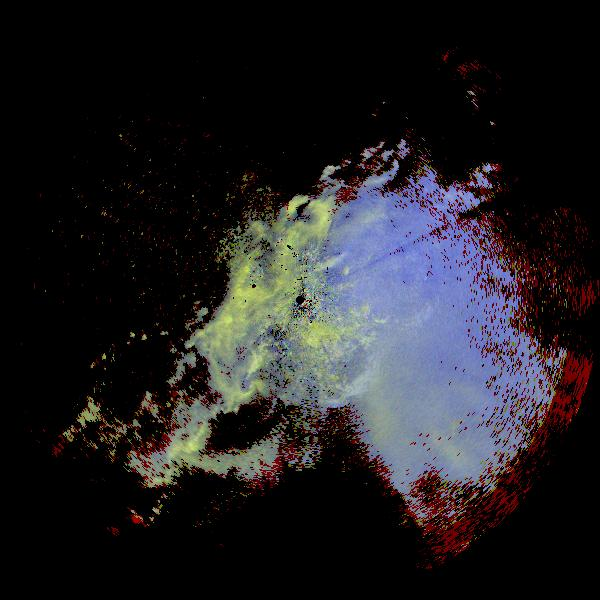roost: (429, 409, 507, 487)
